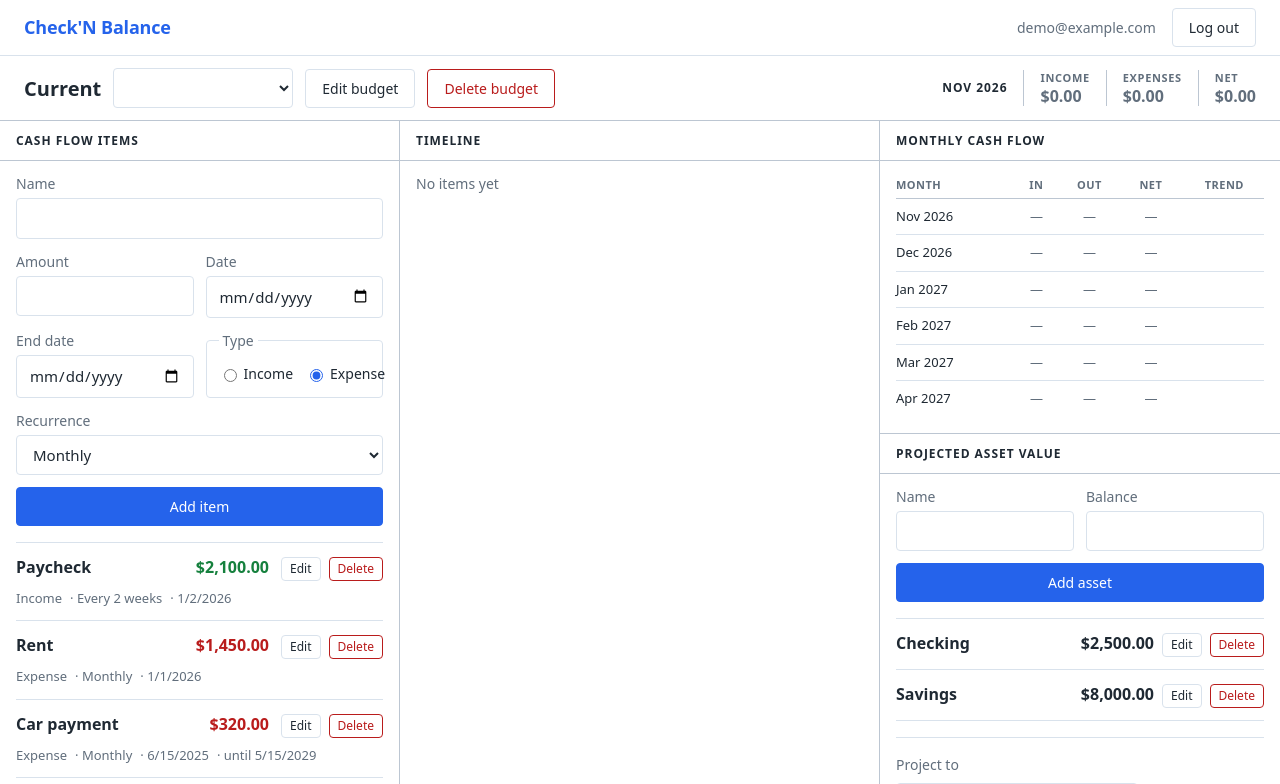
it: logged in › the Check'N Balance link opens /
What coordinates should you click on to do the following:
click the link "Check'N Balance"
I would click on:
 (97, 28)
Its box is [24,14,171,41].
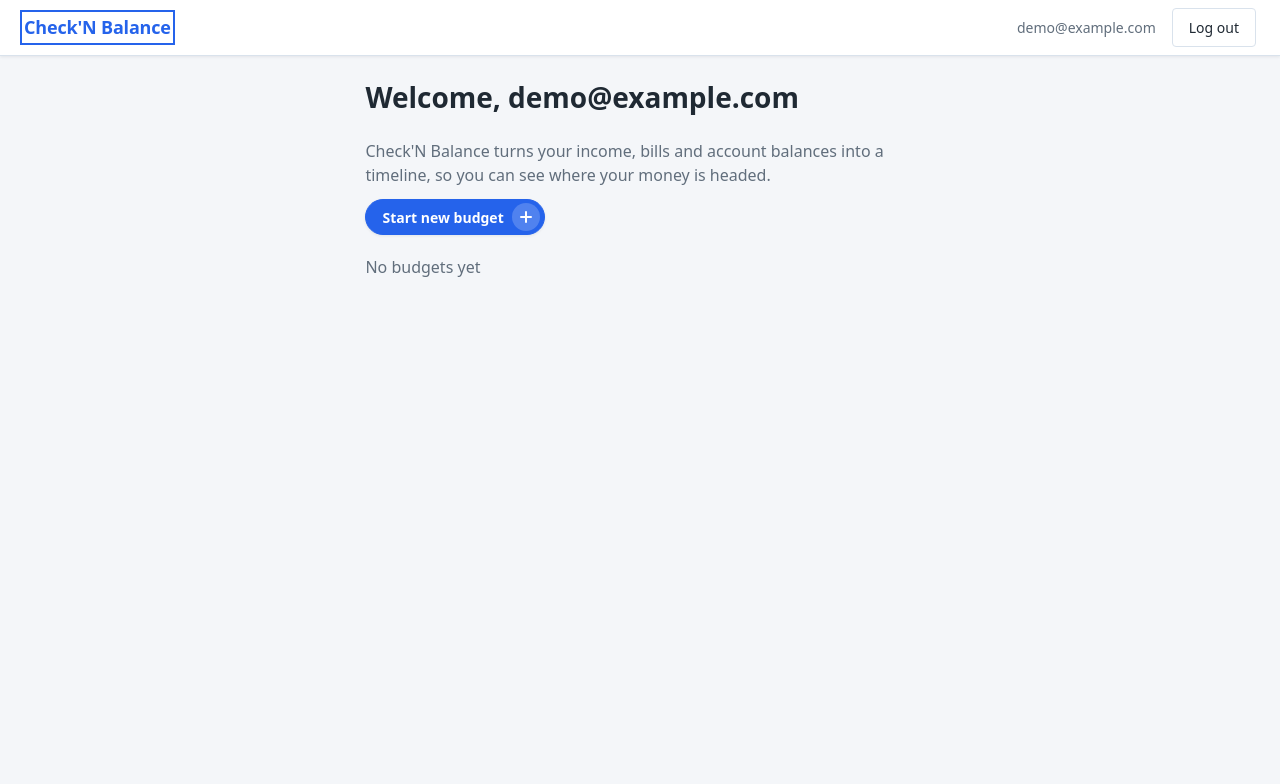
Result: the heading reads "Welcome, demo@example.com" at [365,80,799,115]
